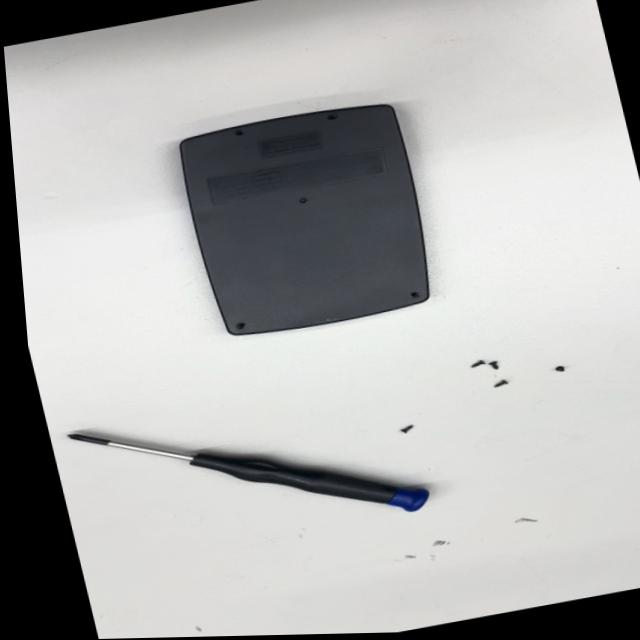back_cover: (163, 93, 453, 350)
screw: (547, 357, 575, 378), (389, 423, 417, 442), (484, 358, 509, 375), (463, 356, 486, 373), (491, 375, 511, 392)
screw_driver: (59, 373, 433, 574)
